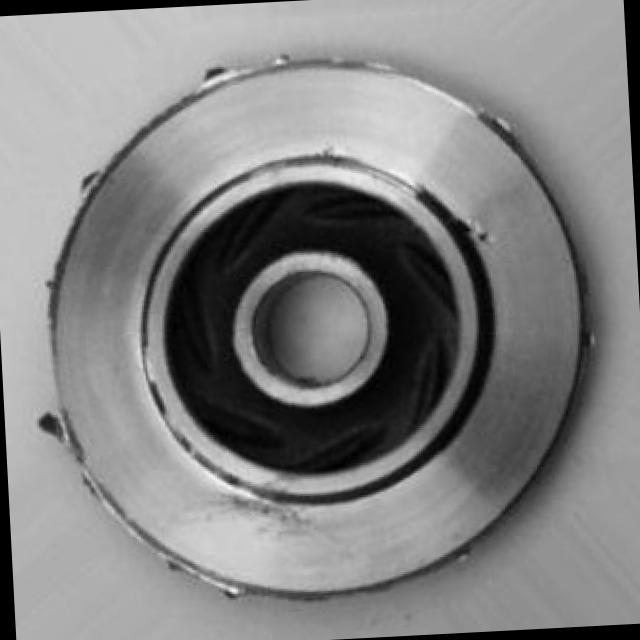Defect: (34, 404, 80, 454)
